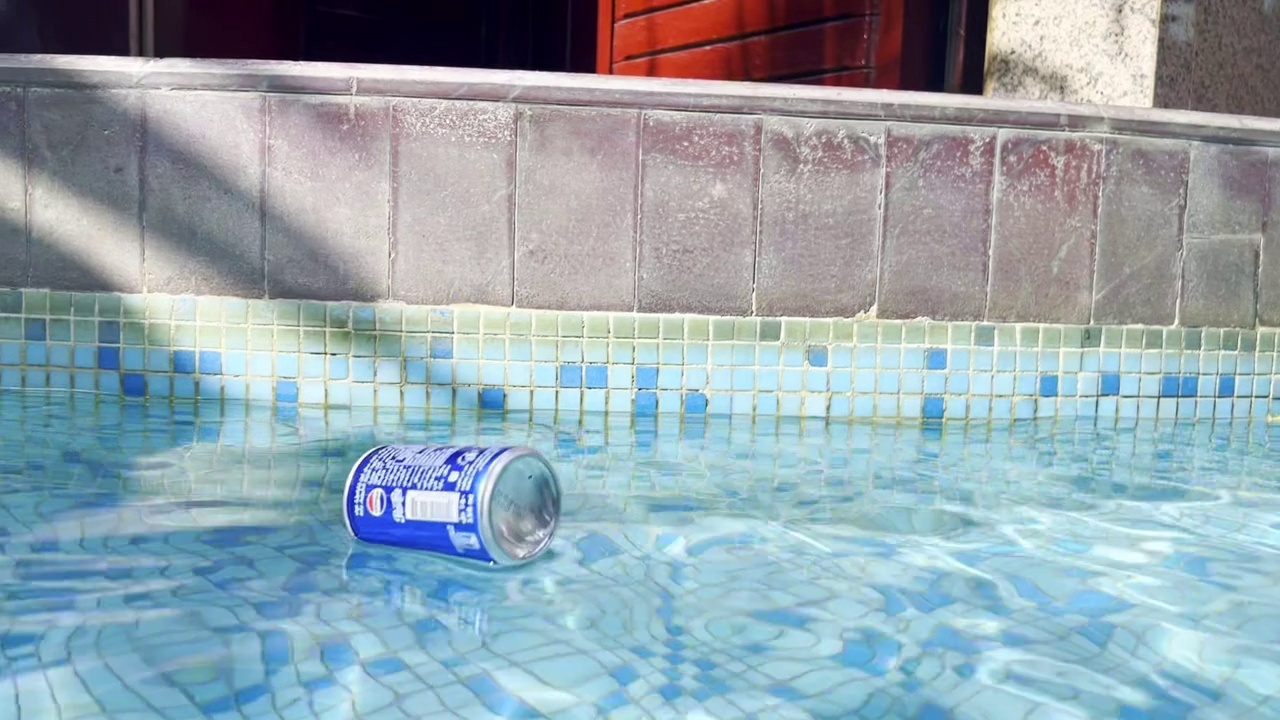debris: (326, 428, 567, 576)
